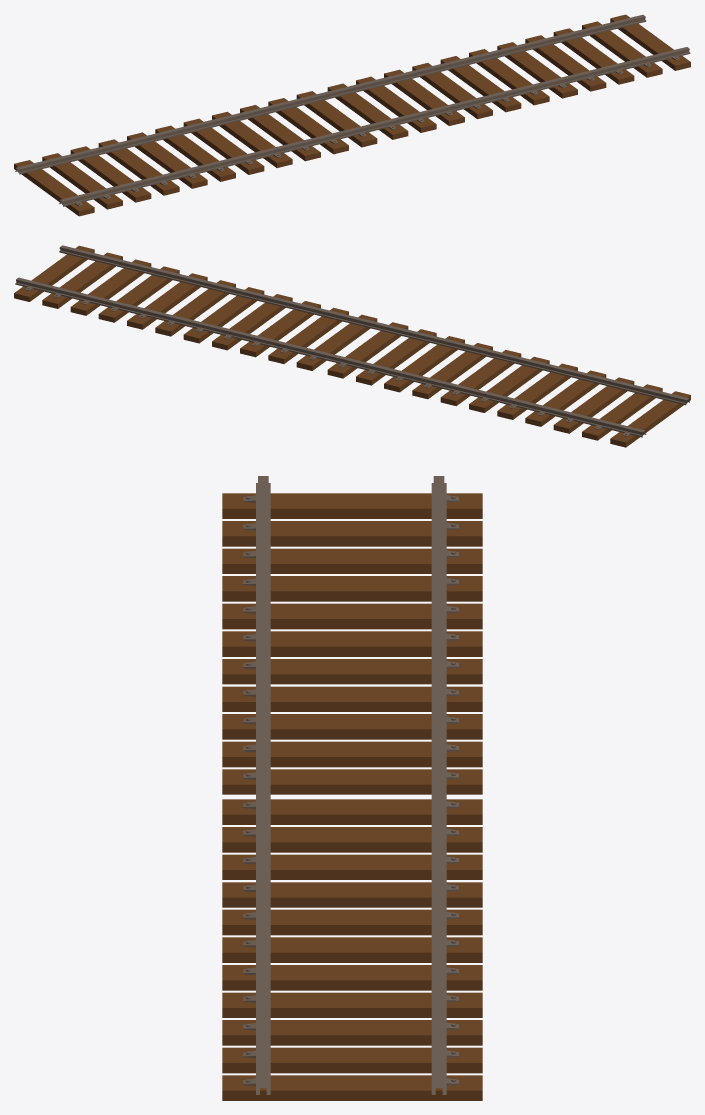
The model's file is trainTrack.fbx.
The picture shows the model from 3 angles, top to bottom: view 1: azimuth 30°, elevation 25°; view 2: azimuth 150°, elevation 25°; view 3: azimuth 270°, elevation 25°; orthographic projection. The views are drawn at different scales.
Visible parts, largest first — view 1: Train Track; view 2: Train Track; view 3: Train Track.
Boxes of the visible parts, left/top/right/bottom form: Train Track: left=14, top=14, right=690, bottom=216; Train Track: left=14, top=245, right=690, bottom=447; Train Track: left=222, top=476, right=482, bottom=1100.
Size of the model in its own units: 1721 by 309 by 26.4.
